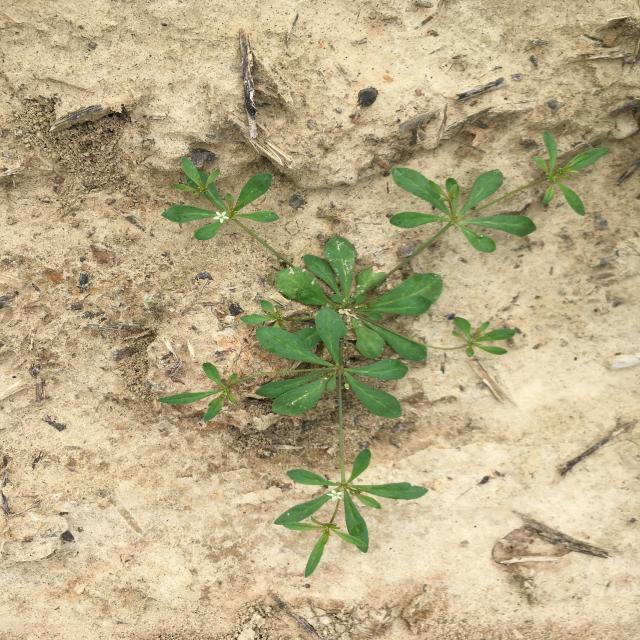Carpetweed: (157, 130, 610, 578)
